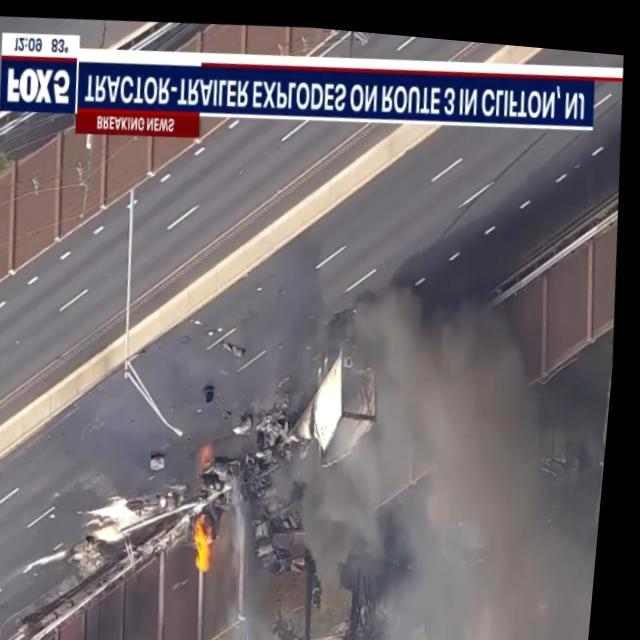fire: (196, 508, 228, 576)
